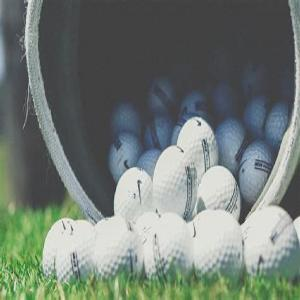Golf: (192, 209, 244, 281), (246, 208, 298, 278), (149, 212, 194, 284), (154, 145, 199, 215), (96, 225, 147, 283), (176, 114, 221, 173), (196, 166, 241, 222), (56, 221, 94, 287), (113, 163, 153, 222)
